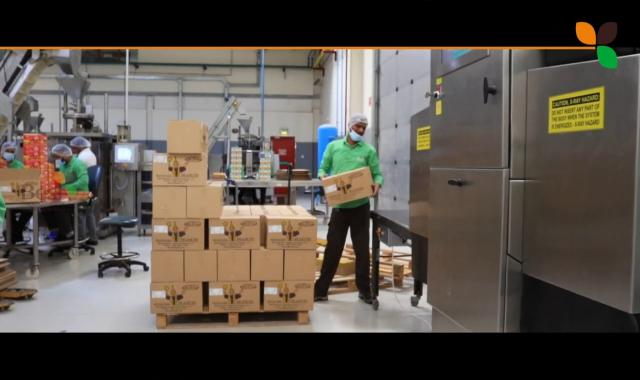hairnet: (347, 113, 371, 137), (51, 142, 72, 161), (72, 135, 92, 153), (1, 142, 19, 160)
